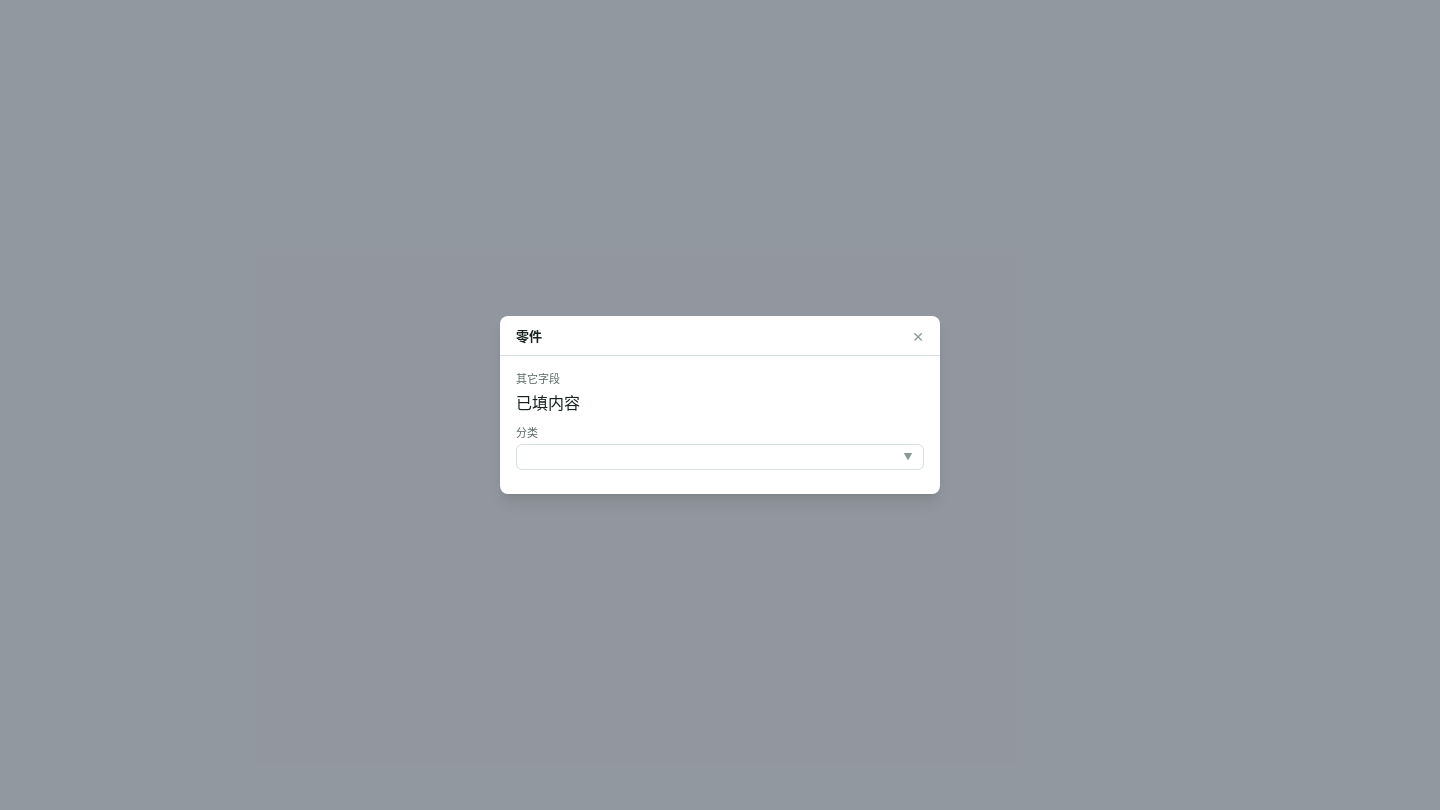
ComboInput › Esc 只关下拉，不连带关掉弹窗、不清空已填内容
Click the dropdown labelled "分类" at (720, 457), box [516, 444, 924, 470]
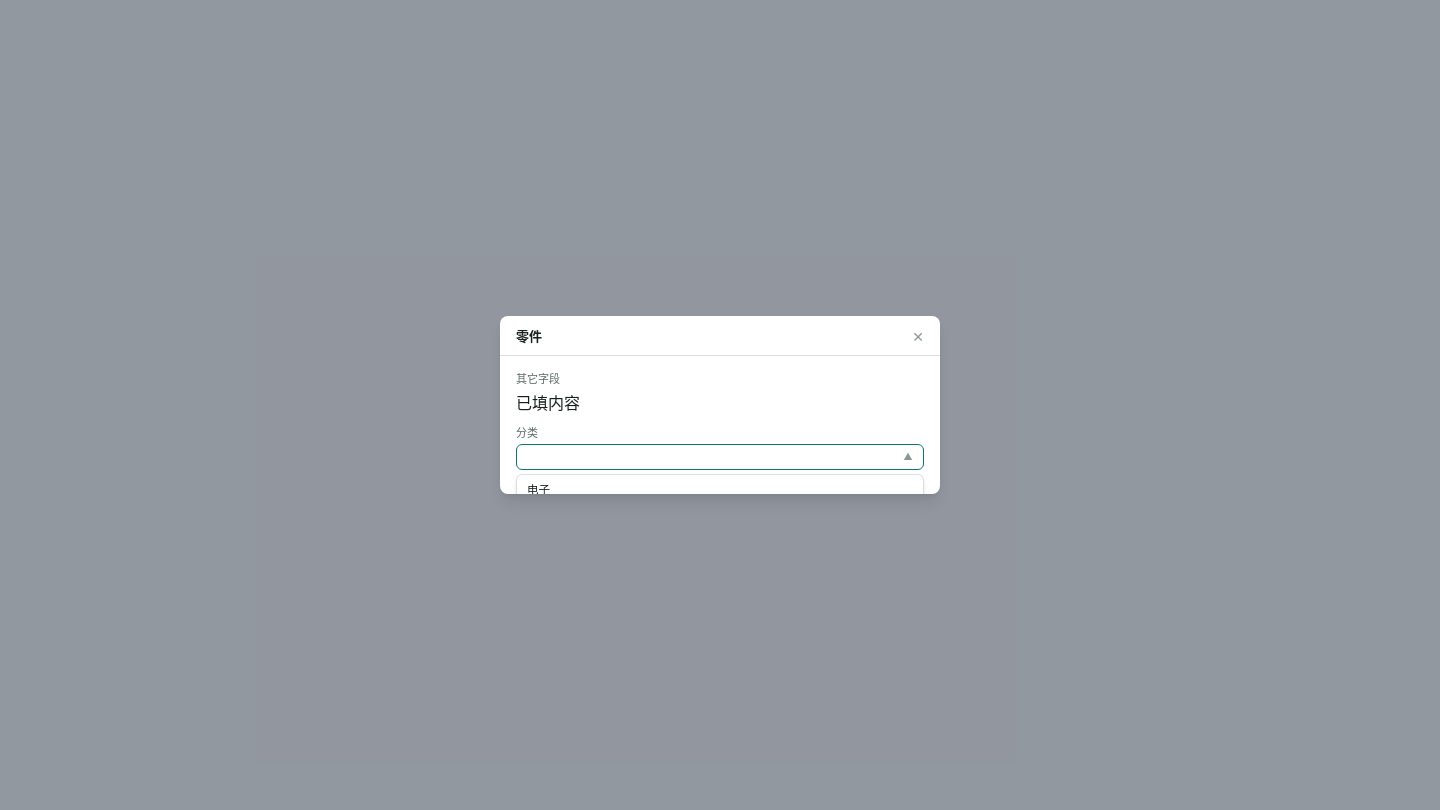
Press Escape
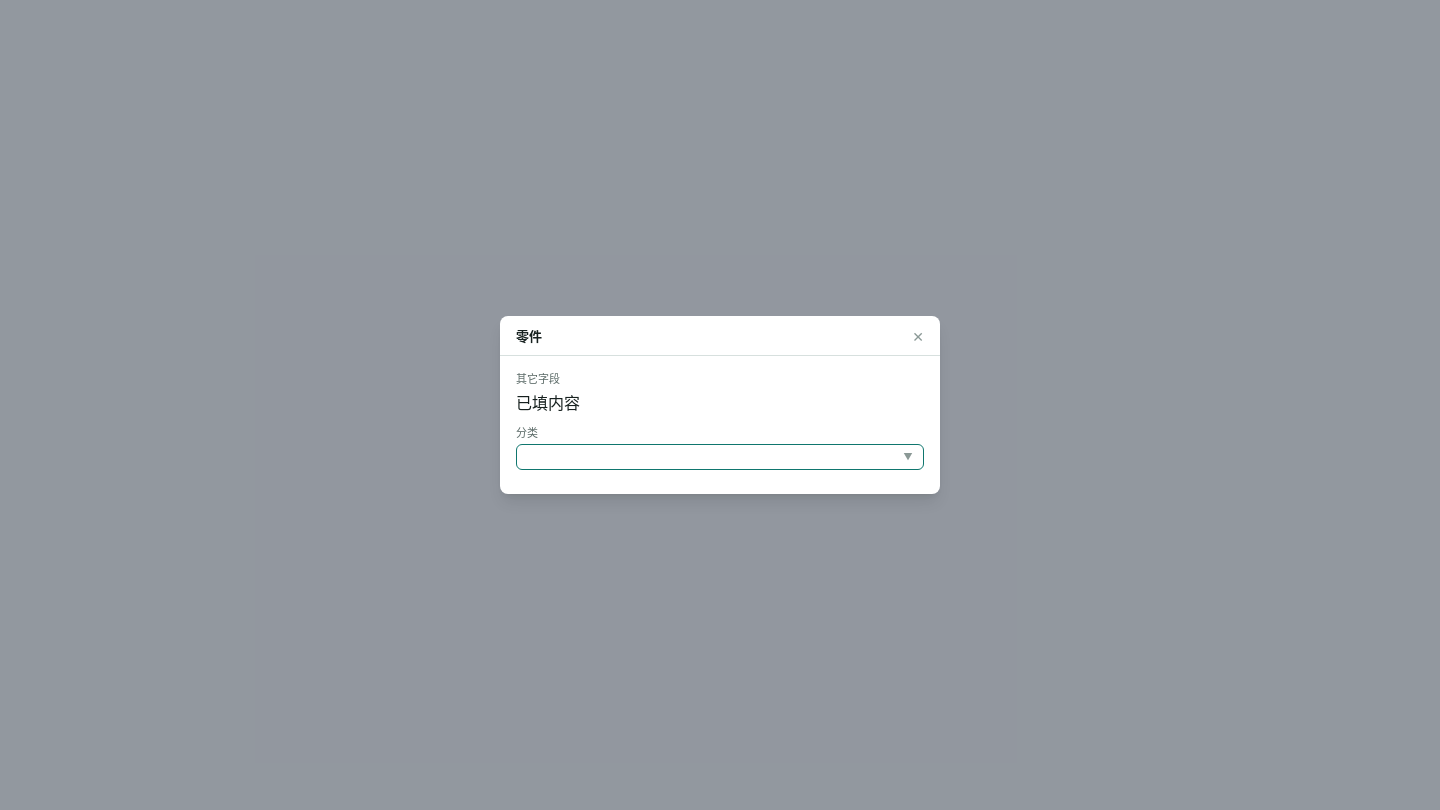
expect the dropdown labelled "分类" is shown: met, box [516, 444, 924, 470]
expect the list is gone: met
